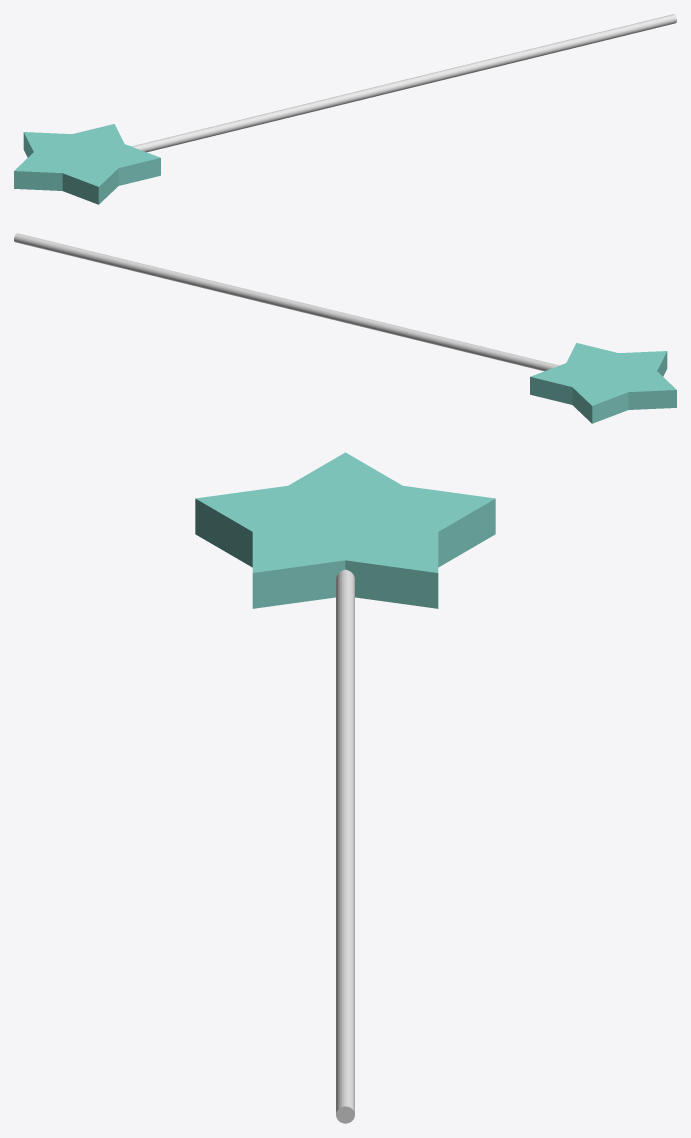
File: excellent_wizard_wand.obj
3 views of the same model, one above another, from view 1: azimuth 30°, elevation 25°; view 2: azimuth 150°, elevation 25°; view 3: azimuth 270°, elevation 25° (orthographic). The views are drawn at different scales.
Visible parts, largest first — view 1: 五角星_柱体.001, 杆_柱体.008; view 2: 五角星_柱体.001, 杆_柱体.008; view 3: 五角星_柱体.001, 杆_柱体.008.
Part boxes in pixels (bbox=[...]): 五角星_柱体.001: bbox=[14, 124, 160, 204]; 杆_柱体.008: bbox=[131, 14, 676, 152]; 五角星_柱体.001: bbox=[530, 343, 676, 423]; 杆_柱体.008: bbox=[14, 233, 559, 371]; 五角星_柱体.001: bbox=[195, 452, 495, 608]; 杆_柱体.008: bbox=[336, 569, 354, 1123].
Bounding box in the file's own units: 1.93 × 0.05 × 0.3804.
